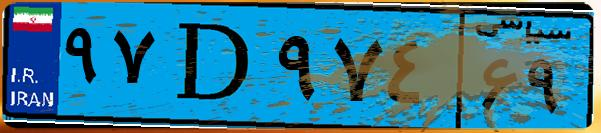4: (385, 28, 445, 110)
6: (475, 38, 525, 113)
7: (330, 28, 385, 110), (110, 28, 158, 98)
9: (270, 28, 330, 110), (57, 26, 110, 100), (525, 38, 570, 115)
D: (158, 12, 270, 120)
